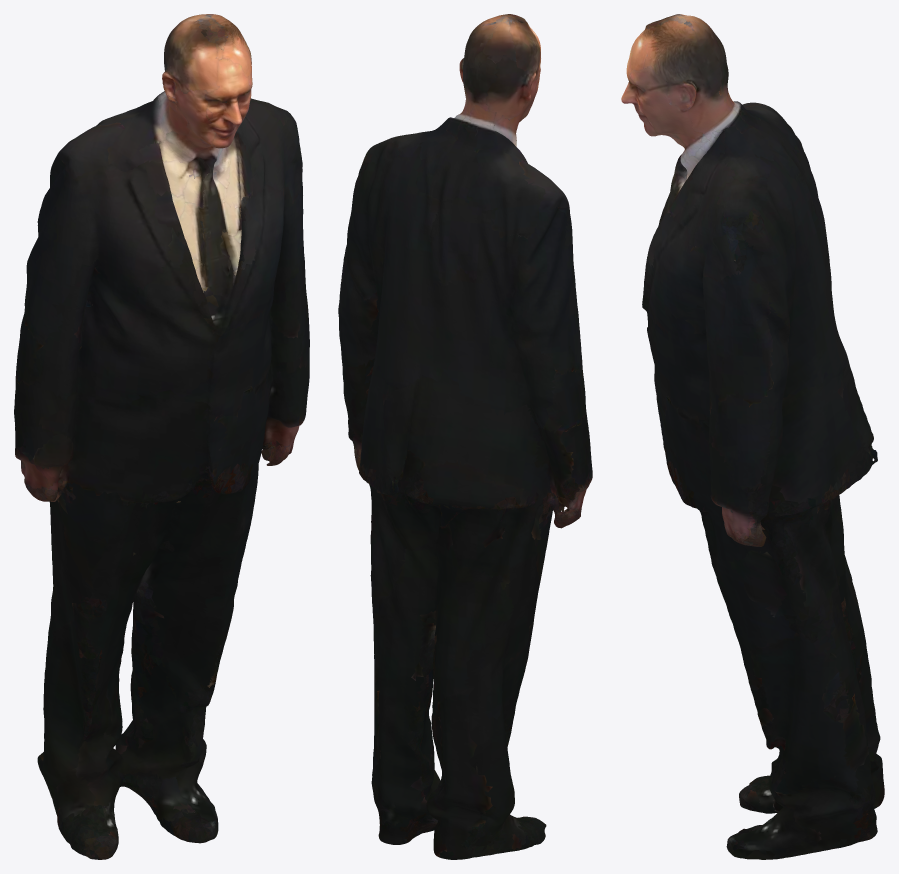
The model's file is person-transformed.glb.
3 renders of one model, left to right at view 1: azimuth 30°, elevation 25°; view 2: azimuth 150°, elevation 25°; view 3: azimuth 270°, elevation 25°, orthographic. The views are drawn at different scales.
Visible parts, largest first — view 1: Object_2; view 2: Object_2; view 3: Object_2.
Boxes of the visible parts, x1,y1,x2,y2 form: Object_2: (14,14,309,859); Object_2: (338,14,592,859); Object_2: (621,14,884,859).
Size of the model in its own units: 0.6474 by 1.91 by 0.553.
1 material, 1 textured.
